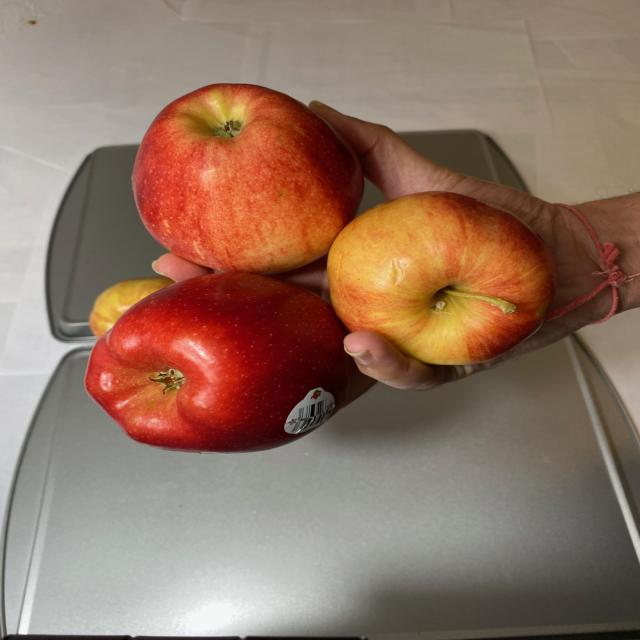apple: (78, 81, 566, 452)
